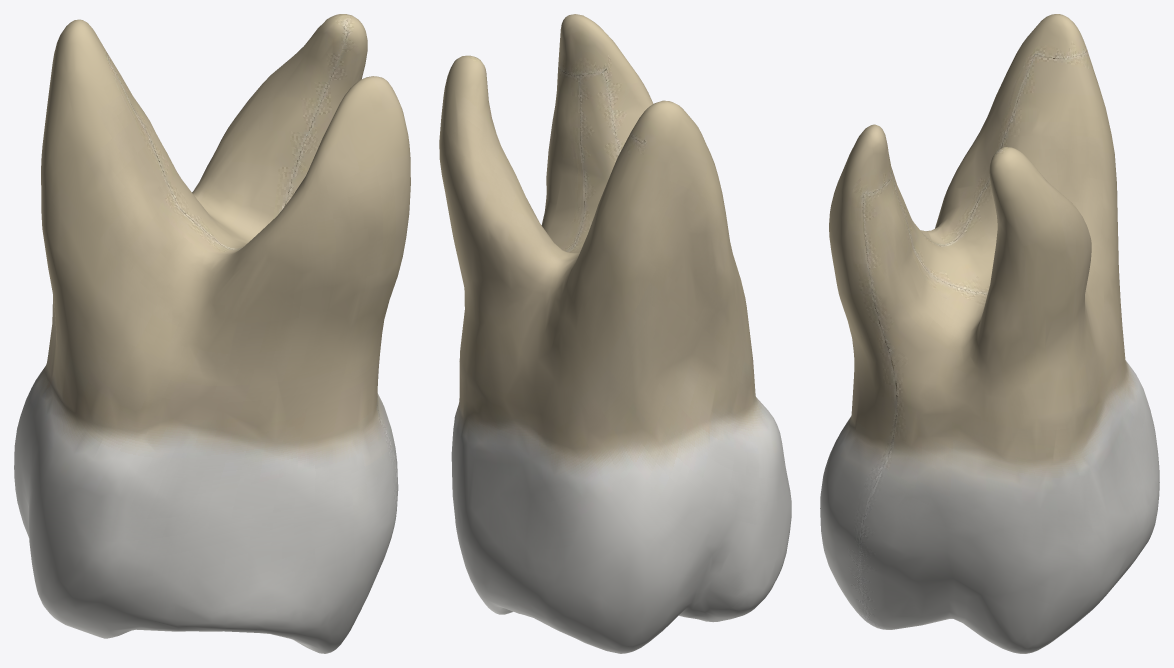
Rendered from maxillary_first_molar.glb.
3 views of the same model, side by side, from view 1: azimuth 30°, elevation 25°; view 2: azimuth 150°, elevation 25°; view 3: azimuth 270°, elevation 25° (orthographic). The views are drawn at different scales.
Parts seen in each view (by area): view 1: Object_2; view 2: Object_2; view 3: Object_2.
Boxes of the visible parts, x1,y1,x2,y2 form: Object_2: [14, 14, 410, 653]; Object_2: [439, 14, 791, 653]; Object_2: [820, 14, 1159, 653].
Bounding box in the file's own units: 0.4531 × 0.7782 × 0.4329.
1 material, 1 textured.
